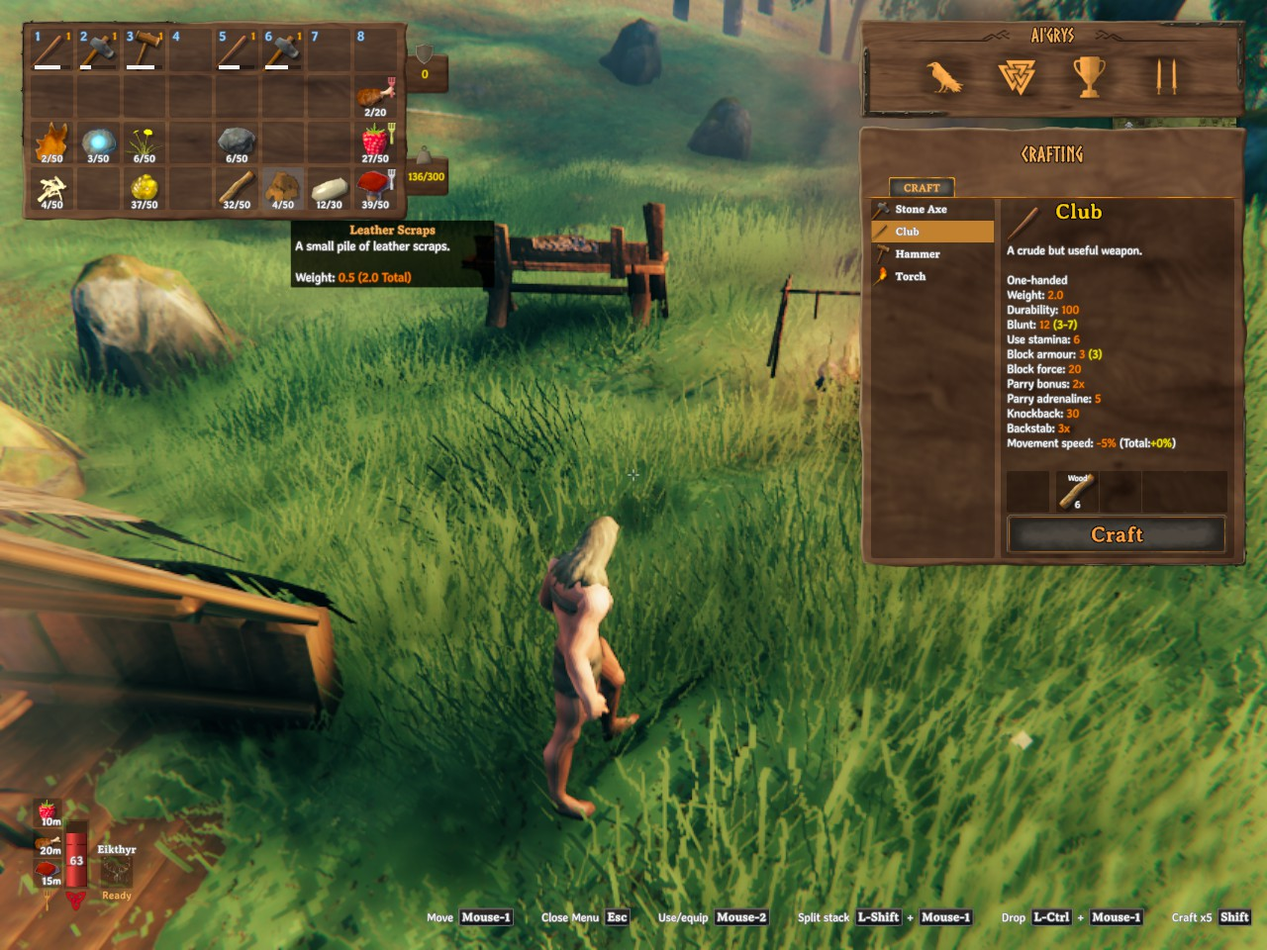Cook Station: (765, 275, 859, 384)
Craft Button: (1008, 516, 1224, 553)
Crafting Menu: (866, 130, 1241, 565)
Food Indicator: (36, 797, 63, 891)
Health Bar: (63, 820, 90, 891)
Hotbar: (25, 21, 398, 78)
House: (0, 564, 329, 887)
Inventory: (24, 21, 403, 215)
Workbench: (461, 203, 668, 326)
